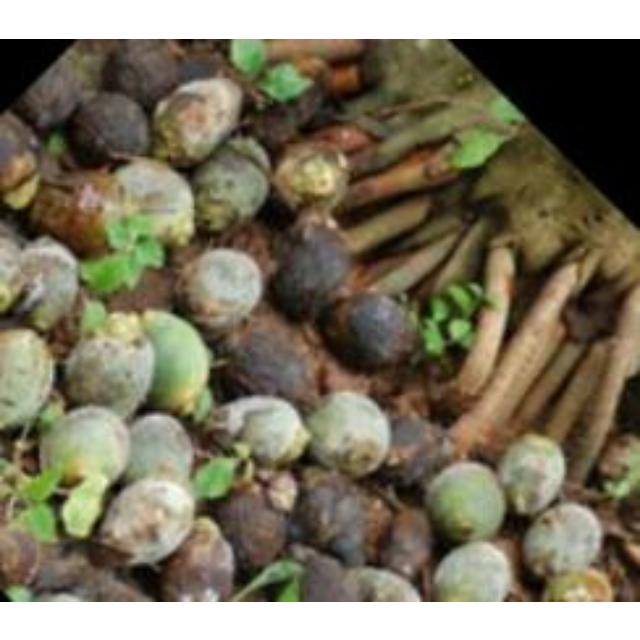damaged: (62, 322, 156, 418), (98, 475, 196, 567), (29, 171, 131, 259), (150, 76, 244, 168), (110, 156, 198, 248), (220, 326, 318, 408), (322, 291, 418, 374), (304, 390, 394, 478), (40, 404, 132, 490), (137, 310, 211, 416), (270, 223, 350, 321), (171, 248, 263, 332), (190, 140, 272, 234), (292, 471, 374, 565), (214, 394, 310, 468), (424, 462, 508, 542), (67, 90, 151, 167), (158, 518, 236, 600), (14, 240, 82, 332), (272, 138, 351, 216), (102, 38, 186, 108), (0, 328, 56, 432), (523, 502, 601, 576), (122, 411, 196, 489), (498, 434, 564, 516), (432, 540, 512, 602)
